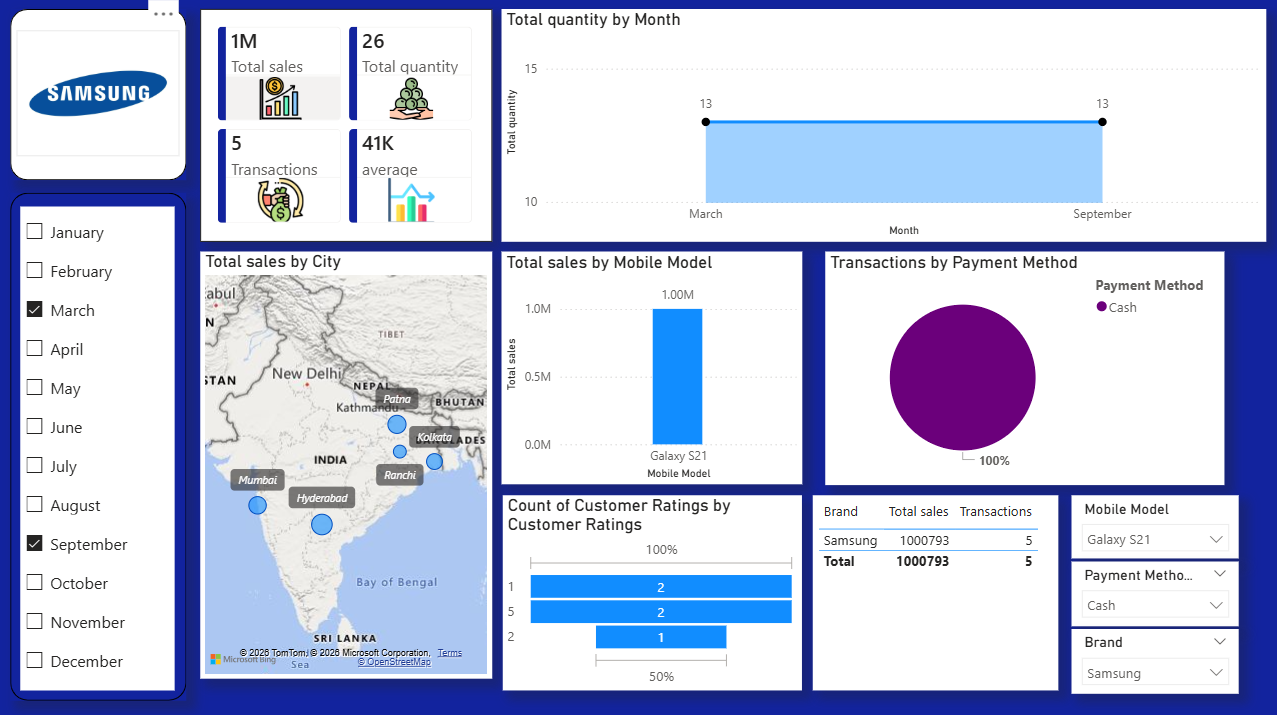

The dashboard page shown, as its layout file describes it:
{"tool":"powerbi","page":{"name":"Page 1","canvas":[1280,720],"ordinal":0},"visuals":[{"type":"shape","box":[10.9,9.7,176.1,171.3],"z":0},{"type":"image","box":[16.9,31.4,162.9,126.7],"z":1000},{"type":"shape","box":[10.9,194.2,176.1,507.9],"z":2000},{"type":"listSlicer","fields":{"Values":["Sheet1.Date.Variation.Date Hierarchy.Month"]},"box":[21.7,207.5,154.4,483.8],"z":3000},{"type":"cardVisual","fields":{"Data":["Sales_data.Total sales","Sales_data.Total quantity","Sales_data.Total rows","Sales_data.average"]},"box":[201.5,9.7,292,232.8],"z":4000},{"type":"map","fields":{"Category":["Sales_data.City"],"Size":["Sales_data.Total sales"]},"box":[201.5,252.1,292,427.1],"z":5000},{"type":"lineChart","fields":{"Y":["Sales_data.Total quantity"],"Category":["Sales_data.Date.Variation.Date Hierarchy.Month","Sales_data.Date.Variation.Date Hierarchy.Day"]},"box":[503.1,9.7,764.9,232.8],"z":6000},{"type":"clusteredColumnChart","fields":{"Category":["Sales_data.Mobile Model"],"Y":["Sales_data.Total sales"]},"box":[503.1,252.1,300.4,232.8],"z":7000},{"type":"pieChart","fields":{"Category":["Sales_data.Payment Method"],"Y":["Sales_data.Transactions"]},"box":[826.1,252.5,399.3,233.3],"z":8000},{"type":"funnel","fields":{"Category":["Sales_data.Customer Ratings"],"Y":["CountNonNull(Sales_data.Customer Ratings)"]},"box":[503.6,496.7,299.1,194.9],"z":9000},{"type":"tableEx","fields":{"Values":["Sales_data.Brand","Sales_data.Total sales","Sales_data.Transactions"]},"box":[813.7,496.7,245.6,194.9],"z":10000},{"type":"slicer","fields":{"Values":["Sales_data.Mobile Model"]},"box":[1073.1,496.7,167.4,63.1],"z":11000},{"type":"slicer","fields":{"Values":["Sales_data.Payment Method","Sales_data.Mobile Model"]},"box":[1073.1,562.6,167.4,64.5],"z":11001},{"type":"slicer","fields":{"Values":["Sales_data.Brand"]},"box":[1073.1,629.8,167.4,64.5],"z":11002}]}

Visuals, with their boxes in screenshot pixels (x1, y1, x2, y2), scaled from the page's 1280x720 canvas onto the 1277x715 screenshot:
shape: [x1=11, y1=10, x2=187, y2=180]
image: [x1=17, y1=31, x2=179, y2=157]
shape: [x1=11, y1=193, x2=187, y2=697]
listSlicer - Sheet1.Date.Variation.Date Hierarchy.Month: [x1=22, y1=206, x2=176, y2=686]
cardVisual - Sales_data.Total sales x Sales_data.Total quantity: [x1=201, y1=10, x2=492, y2=241]
map - Sales_data.City x Sales_data.Total sales: [x1=201, y1=250, x2=492, y2=674]
lineChart - Sales_data.Total quantity x Sales_data.Date.Variation.Date Hierarchy.Month: [x1=502, y1=10, x2=1265, y2=241]
clusteredColumnChart - Sales_data.Mobile Model x Sales_data.Total sales: [x1=502, y1=250, x2=802, y2=482]
pieChart - Sales_data.Payment Method x Sales_data.Transactions: [x1=824, y1=251, x2=1223, y2=482]
funnel - Sales_data.Customer Ratings x CountNonNull(Sales_data.Customer Ratings): [x1=502, y1=493, x2=801, y2=687]
tableEx - Sales_data.Brand x Sales_data.Total sales: [x1=812, y1=493, x2=1057, y2=687]
slicer - Sales_data.Mobile Model: [x1=1071, y1=493, x2=1238, y2=556]
slicer - Sales_data.Payment Method x Sales_data.Mobile Model: [x1=1071, y1=559, x2=1238, y2=623]
slicer - Sales_data.Brand: [x1=1071, y1=625, x2=1238, y2=689]
